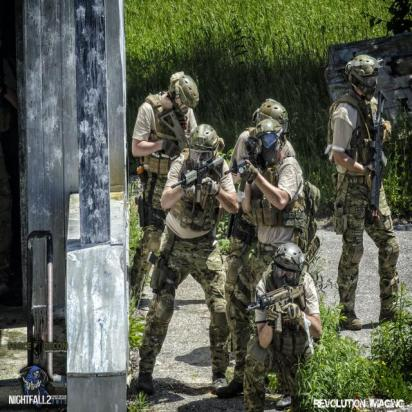Gun: (245, 281, 306, 331), (367, 90, 388, 220), (171, 157, 224, 202), (226, 144, 264, 180)
